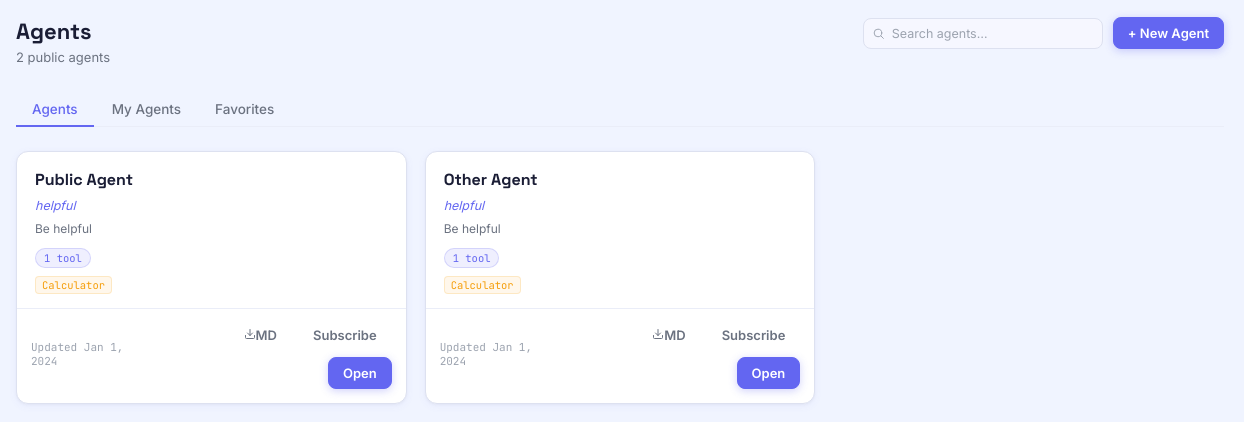
Scenario: AgentsPage › Search / filter › filters agents by name
In the field with placeholder "Search agents…": (983, 33) 863,18 -> 1103,48, type "Public"
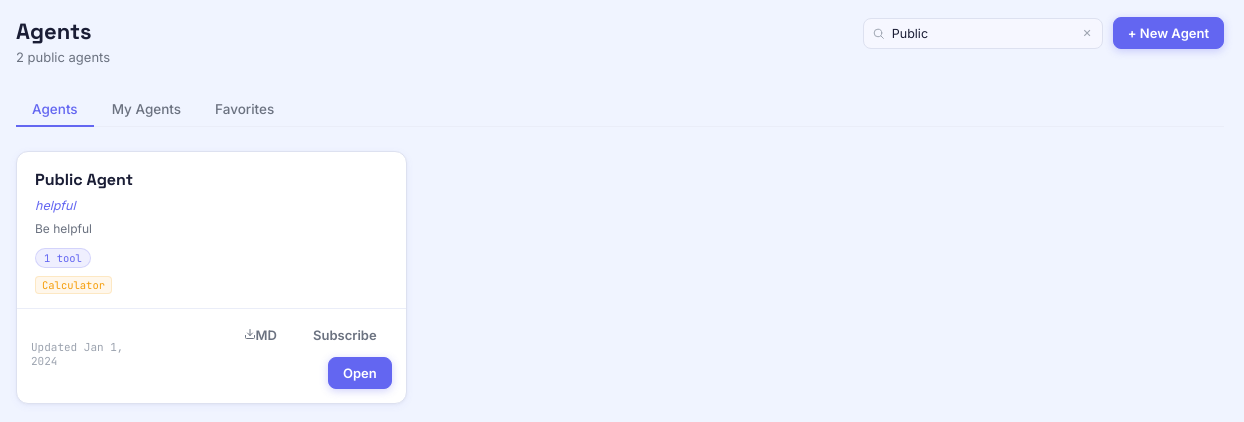
Check: the text "Public Agent" is shown, box 35,169 -> 133,190
Check: the text "Other Agent" is gone
